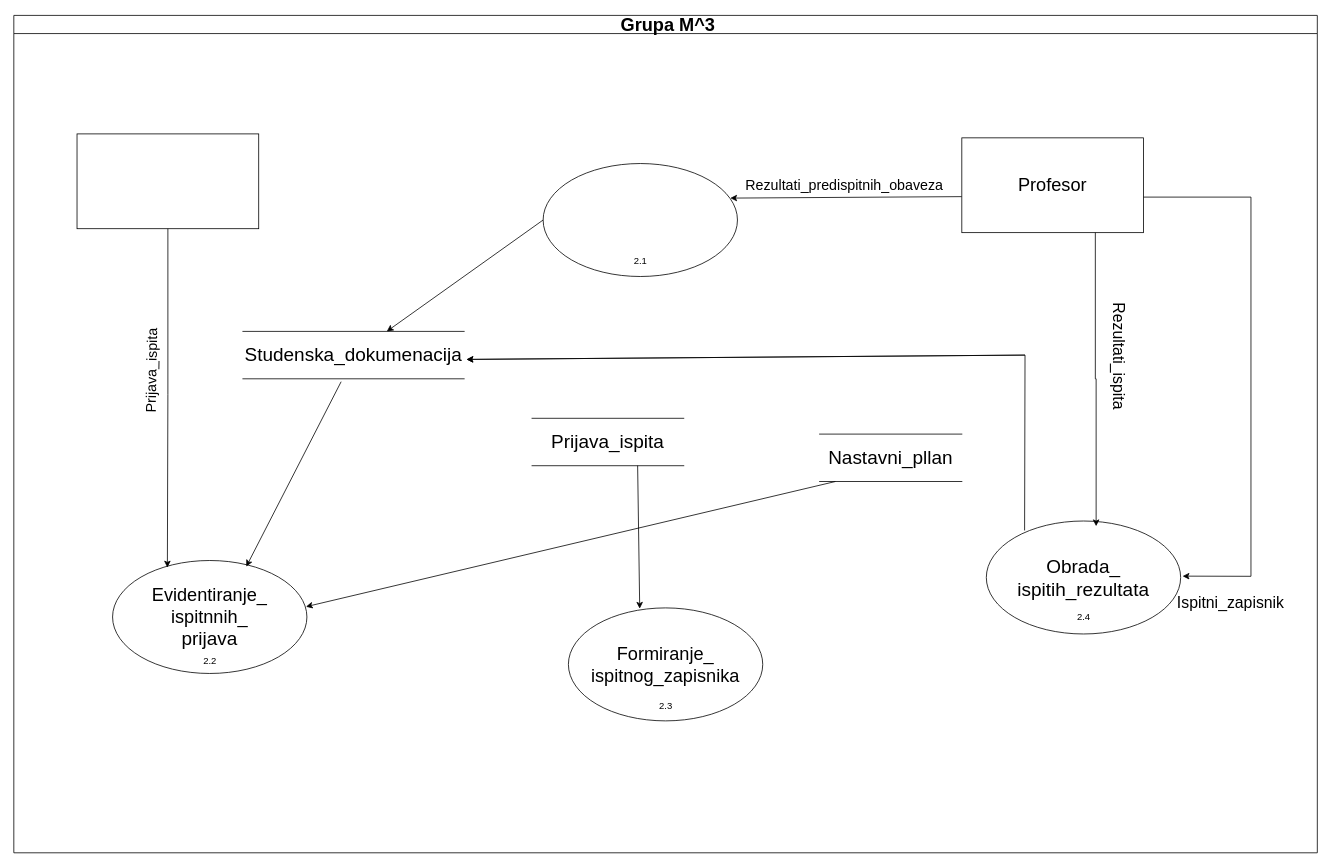
This 1331x867 diagram has some shape labels left out. The box of each missing label's shape, as (x1, y1, x2, y2) in pixels:
Student: (76, 133, 259, 229)
Zavođenje_ predispitnih_obaveza: (542, 163, 737, 276)
